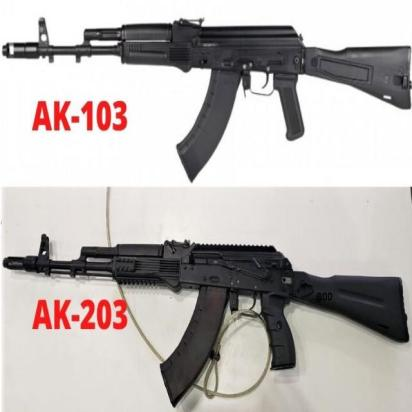Gun: (2, 233, 410, 408), (2, 16, 412, 184)
